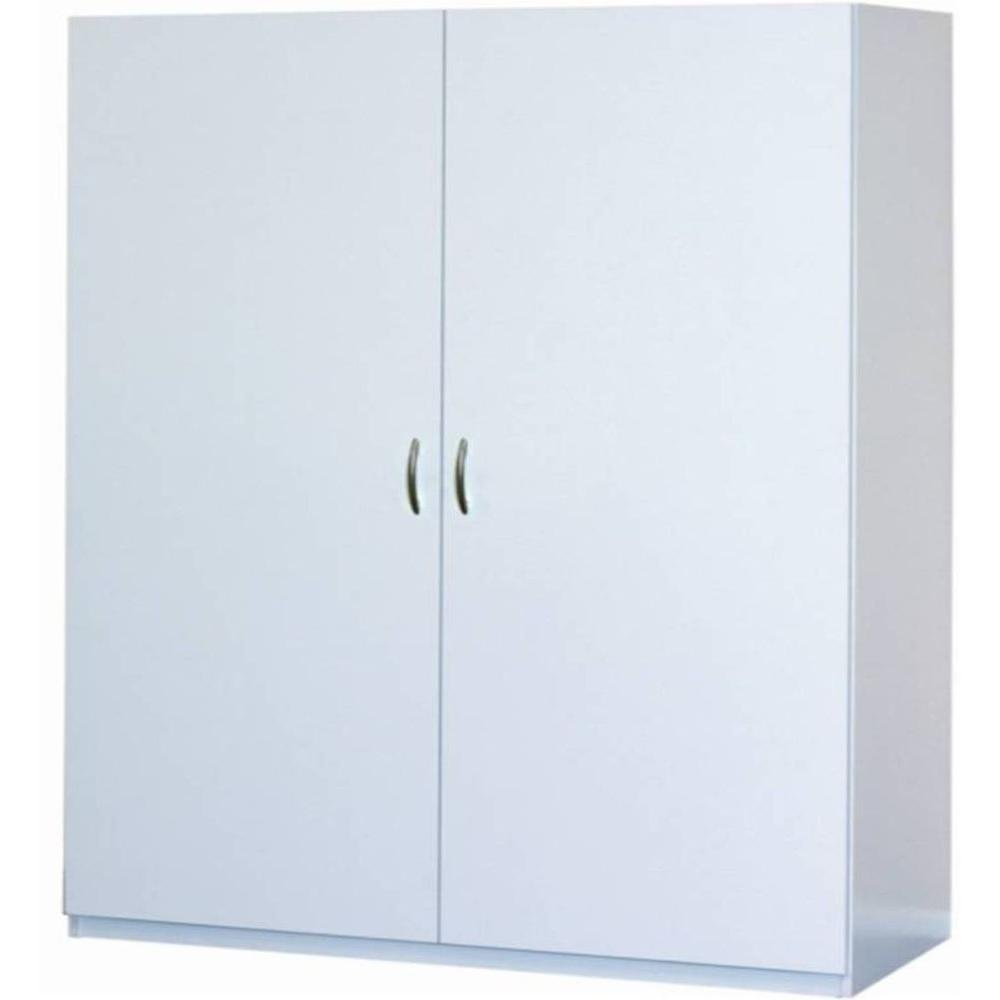cabinet_door: (449, 18, 847, 942), (49, 9, 438, 941)
handle: (449, 433, 474, 527), (400, 433, 424, 526)
